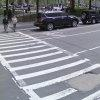Crosswalk: (3, 26, 76, 100)
